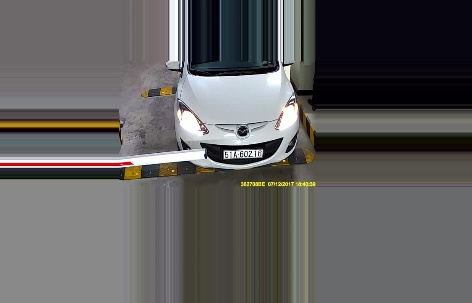plate: (221, 147, 265, 160)
